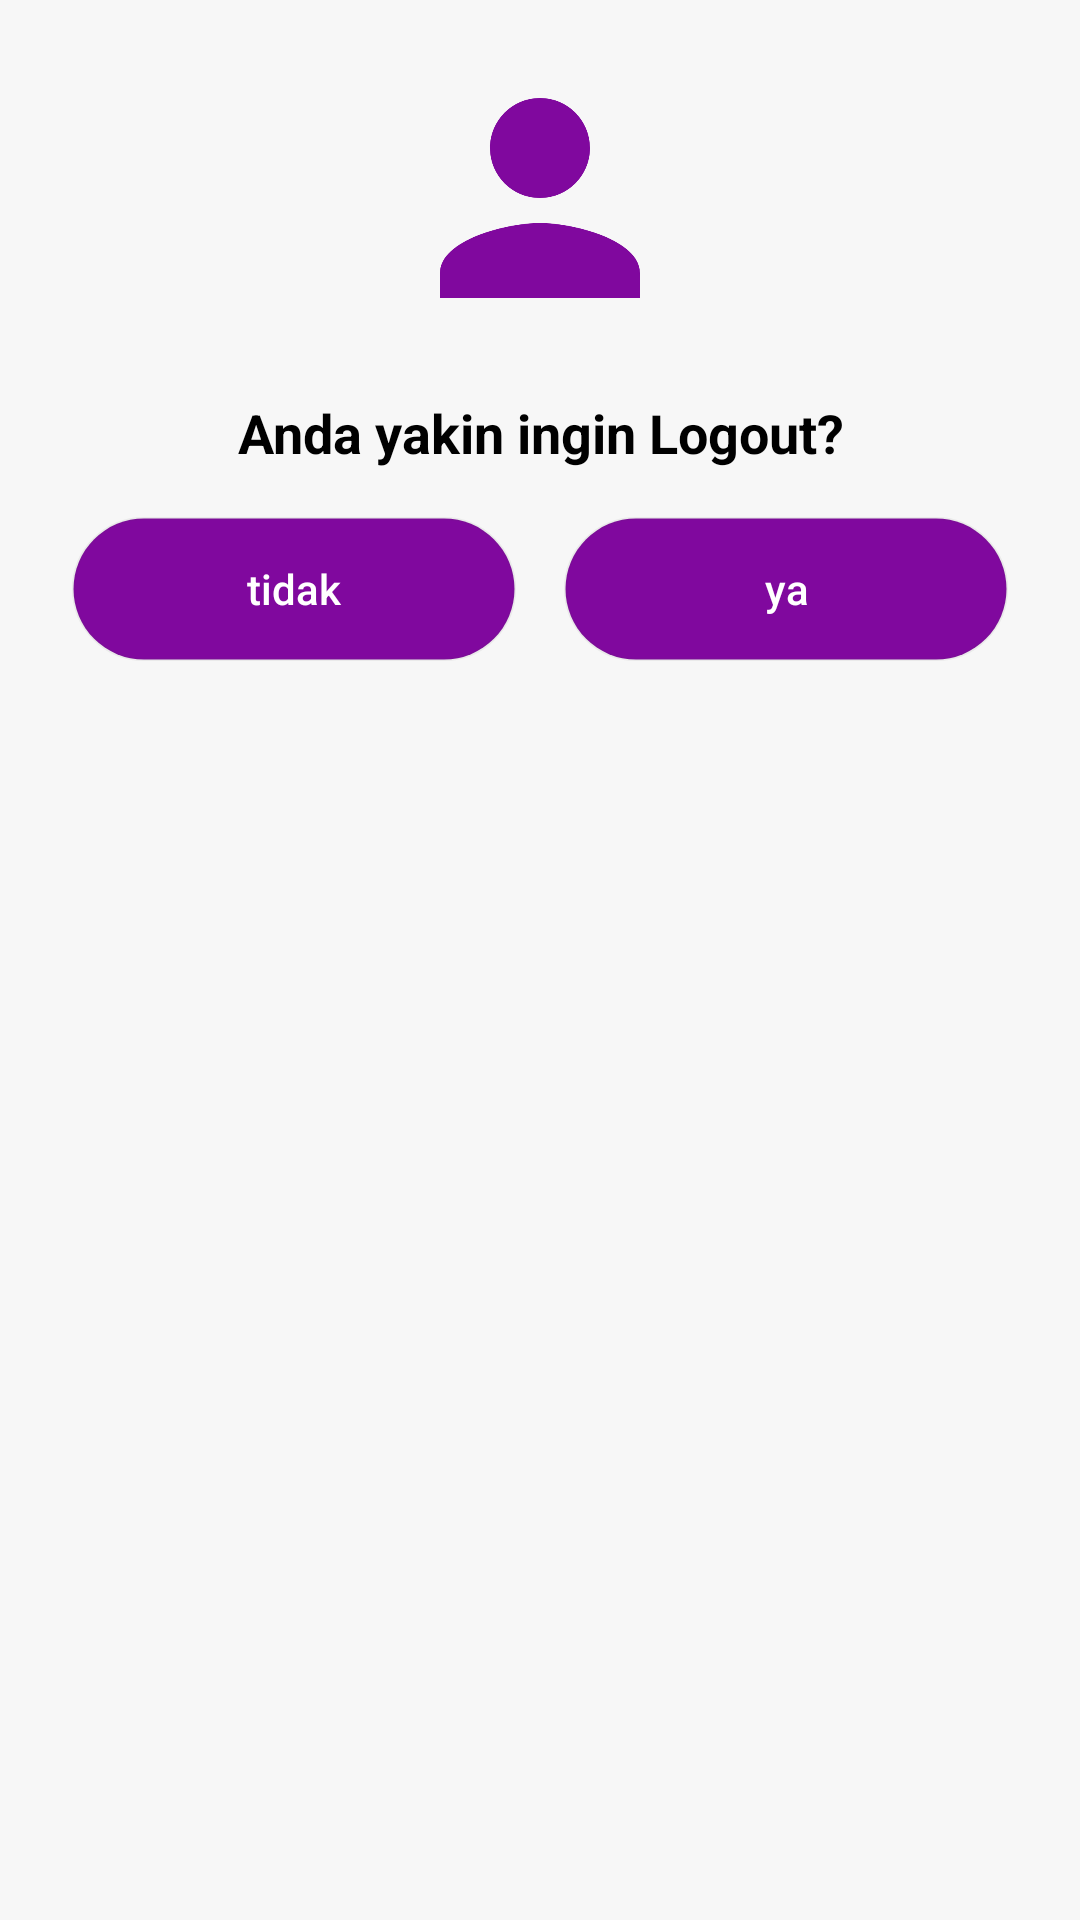

Screen size 1080*1920. Icon name, then its center in pixels as (x=x, y=y):
profile: (x=540, y=198)
